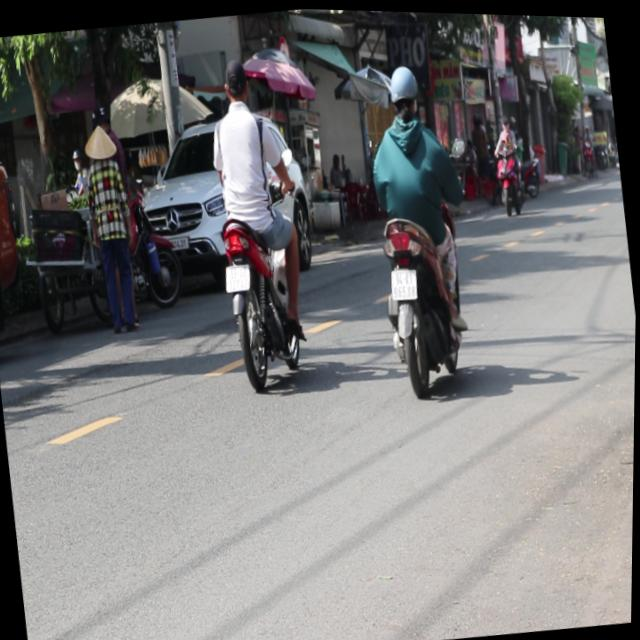helmet: (383, 59, 423, 121)
licenseplate: (353, 53, 486, 397), (192, 48, 322, 391)
motorcyclist: (218, 54, 251, 108)
nohelmet: (389, 264, 420, 299), (224, 261, 253, 290)
